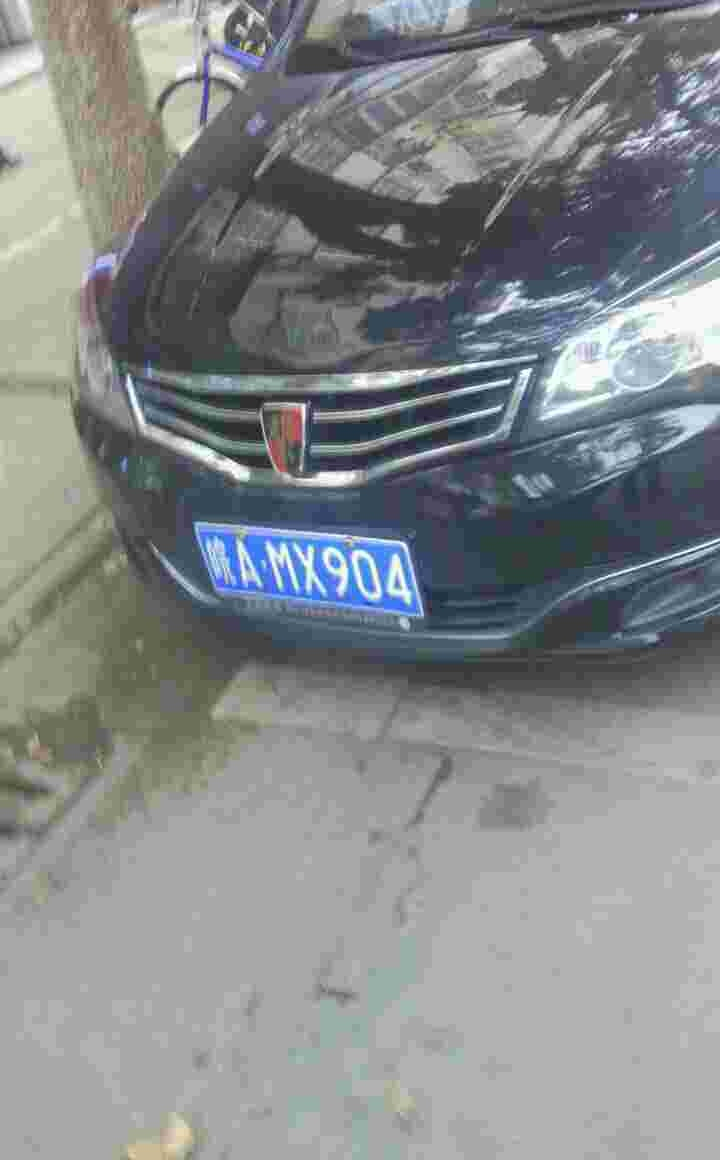plate: (188, 517, 431, 620)
